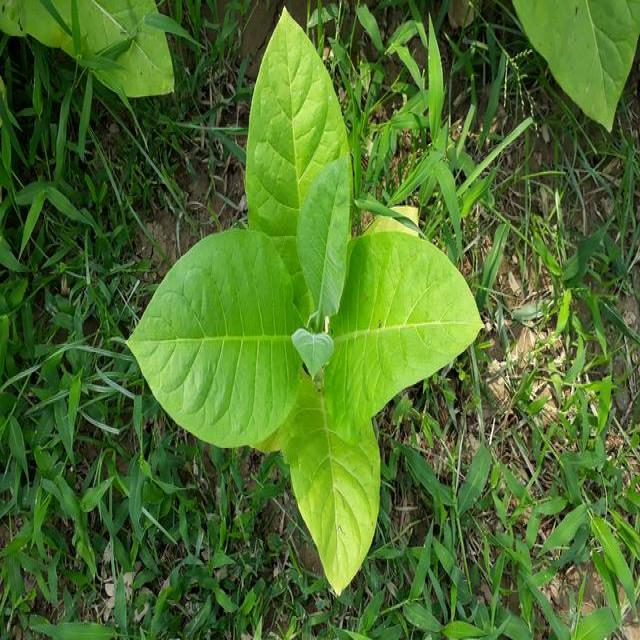crop: (126, 1, 488, 596)
